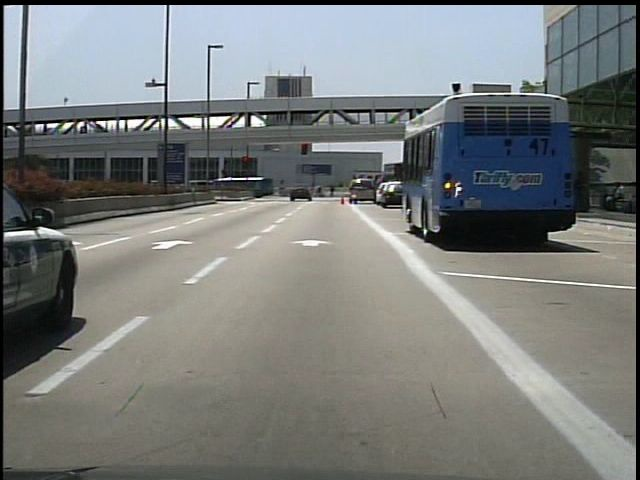person: (601, 180, 625, 211), (316, 184, 327, 199), (329, 183, 338, 199)
